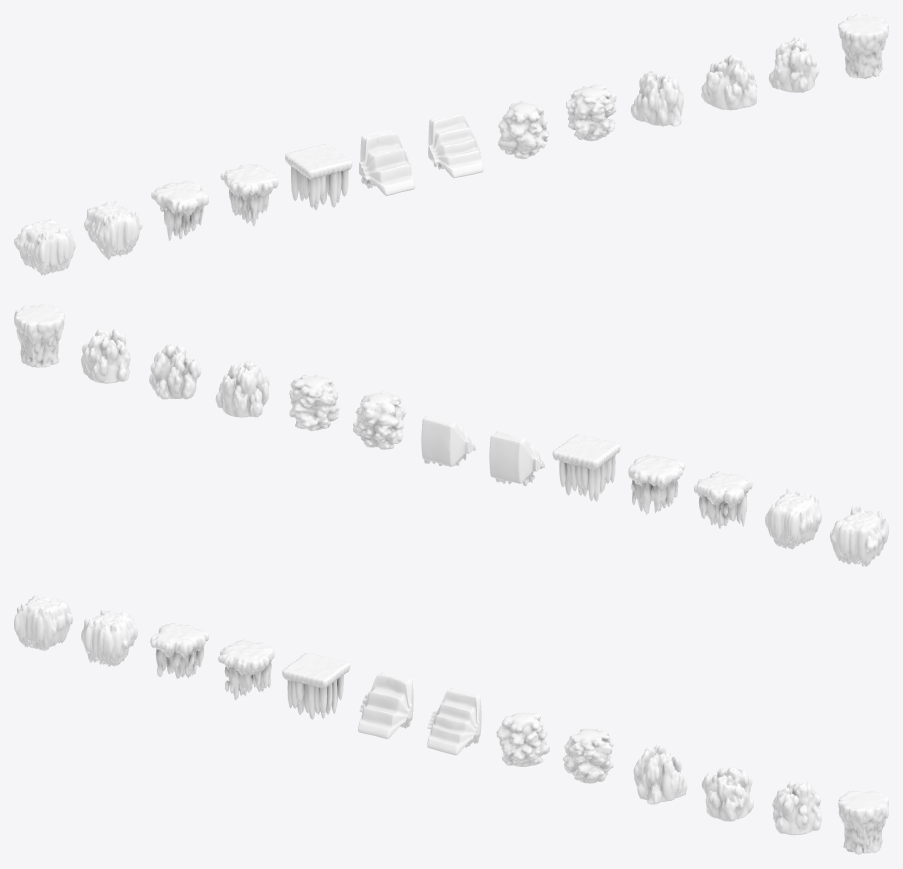
File: cloud_kit_emissive.glb
The picture shows the model from 3 angles, top to bottom: view 1: azimuth 30°, elevation 25°; view 2: azimuth 150°, elevation 25°; view 3: azimuth 330°, elevation 25°; orthographic projection.
Parts seen in each view (by area): view 1: mammatus_1, shelf_1, shelf_2, wall_cloud_1, anvil_1, anvil_2, tower_cap_2, tower_body_1, tower_cap_1, tower_body_2, base_2, base_1 (+1 smaller); view 2: mammatus_1, wall_cloud_1, anvil_1, anvil_2, base_2, base_1, tower_body_1, tower_cap_1, tower_body_2, shelf_1, tower_cap_3, tower_cap_2 (+1 smaller); view 3: mammatus_1, shelf_1, shelf_2, wall_cloud_1, anvil_1, anvil_2, base_2, base_1, tower_cap_1, tower_body_1, tower_cap_2, tower_body_2 (+1 smaller).
Part boxes in pixels (box(x1,y1,x2,y2)): mammatus_1: box(285, 143, 352, 210); shelf_1: box(359, 128, 415, 196); shelf_2: box(428, 112, 483, 178); wall_cloud_1: box(838, 14, 888, 78); anvil_1: box(14, 219, 75, 275); anvil_2: box(84, 201, 142, 259); tower_cap_2: box(701, 55, 756, 110); tower_body_1: box(498, 101, 548, 159); tower_cap_1: box(630, 71, 683, 126); tower_body_2: box(566, 84, 616, 141); base_2: box(220, 164, 278, 226); base_1: box(151, 180, 208, 240); mammatus_1: box(552, 434, 620, 501); wall_cloud_1: box(14, 304, 64, 367); anvil_1: box(829, 505, 888, 566); anvil_2: box(765, 488, 821, 549); base_2: box(628, 454, 684, 515); base_1: box(694, 471, 752, 528); tower_body_1: box(353, 390, 406, 449); tower_cap_1: box(215, 361, 269, 417); tower_body_2: box(289, 374, 339, 431); shelf_1: box(489, 431, 544, 486); tower_cap_3: box(81, 329, 130, 383); tower_cap_2: box(149, 344, 201, 399); mammatus_1: box(282, 653, 350, 720); shelf_1: box(358, 671, 413, 739); shelf_2: box(427, 688, 481, 755); wall_cloud_1: box(838, 791, 888, 854); anvil_1: box(14, 595, 73, 651); anvil_2: box(81, 609, 137, 666); base_2: box(218, 639, 274, 700); base_1: box(150, 623, 208, 678); tower_cap_1: box(633, 745, 687, 804); tower_body_1: box(496, 712, 549, 766); tower_cap_2: box(701, 766, 753, 821); tower_body_2: box(563, 728, 613, 783).
Bounding box in the file's own units: 1900 × 100 × 100.
Materials: 1 (1 with a texture image).
